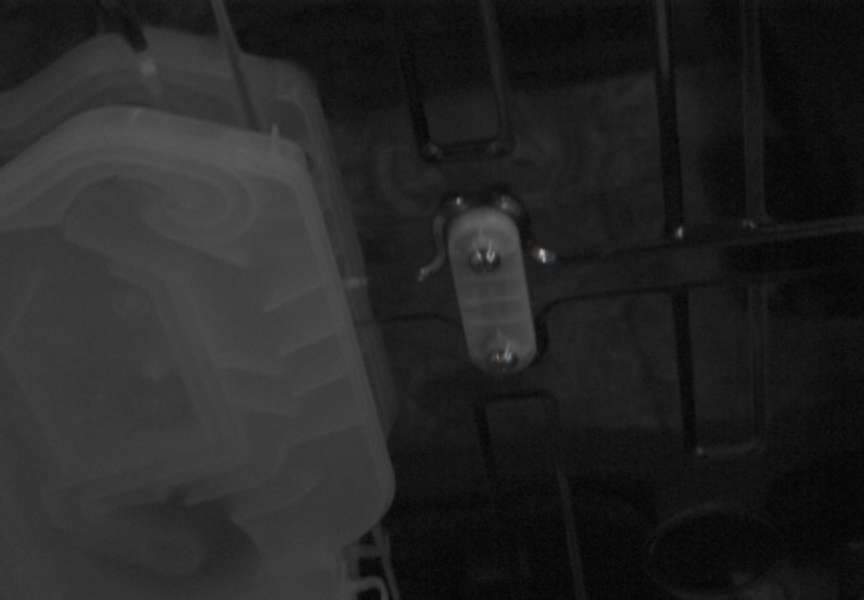screw: (487, 347, 519, 374), (469, 247, 501, 273)
